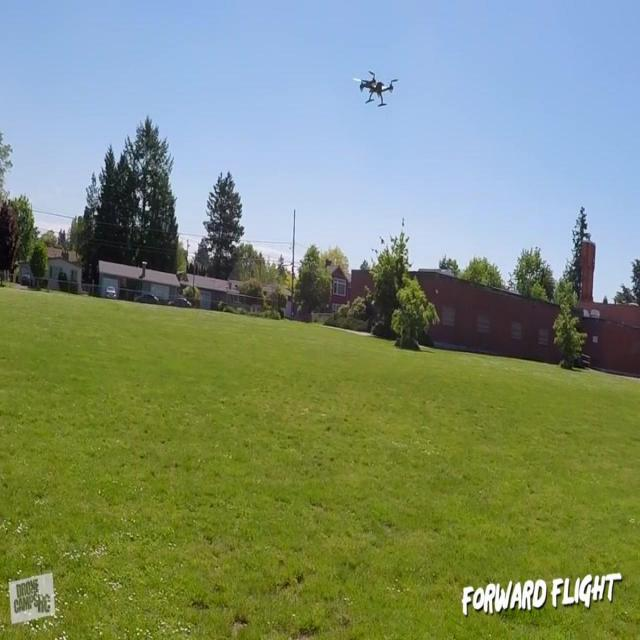UAV: (353, 71, 399, 107)
